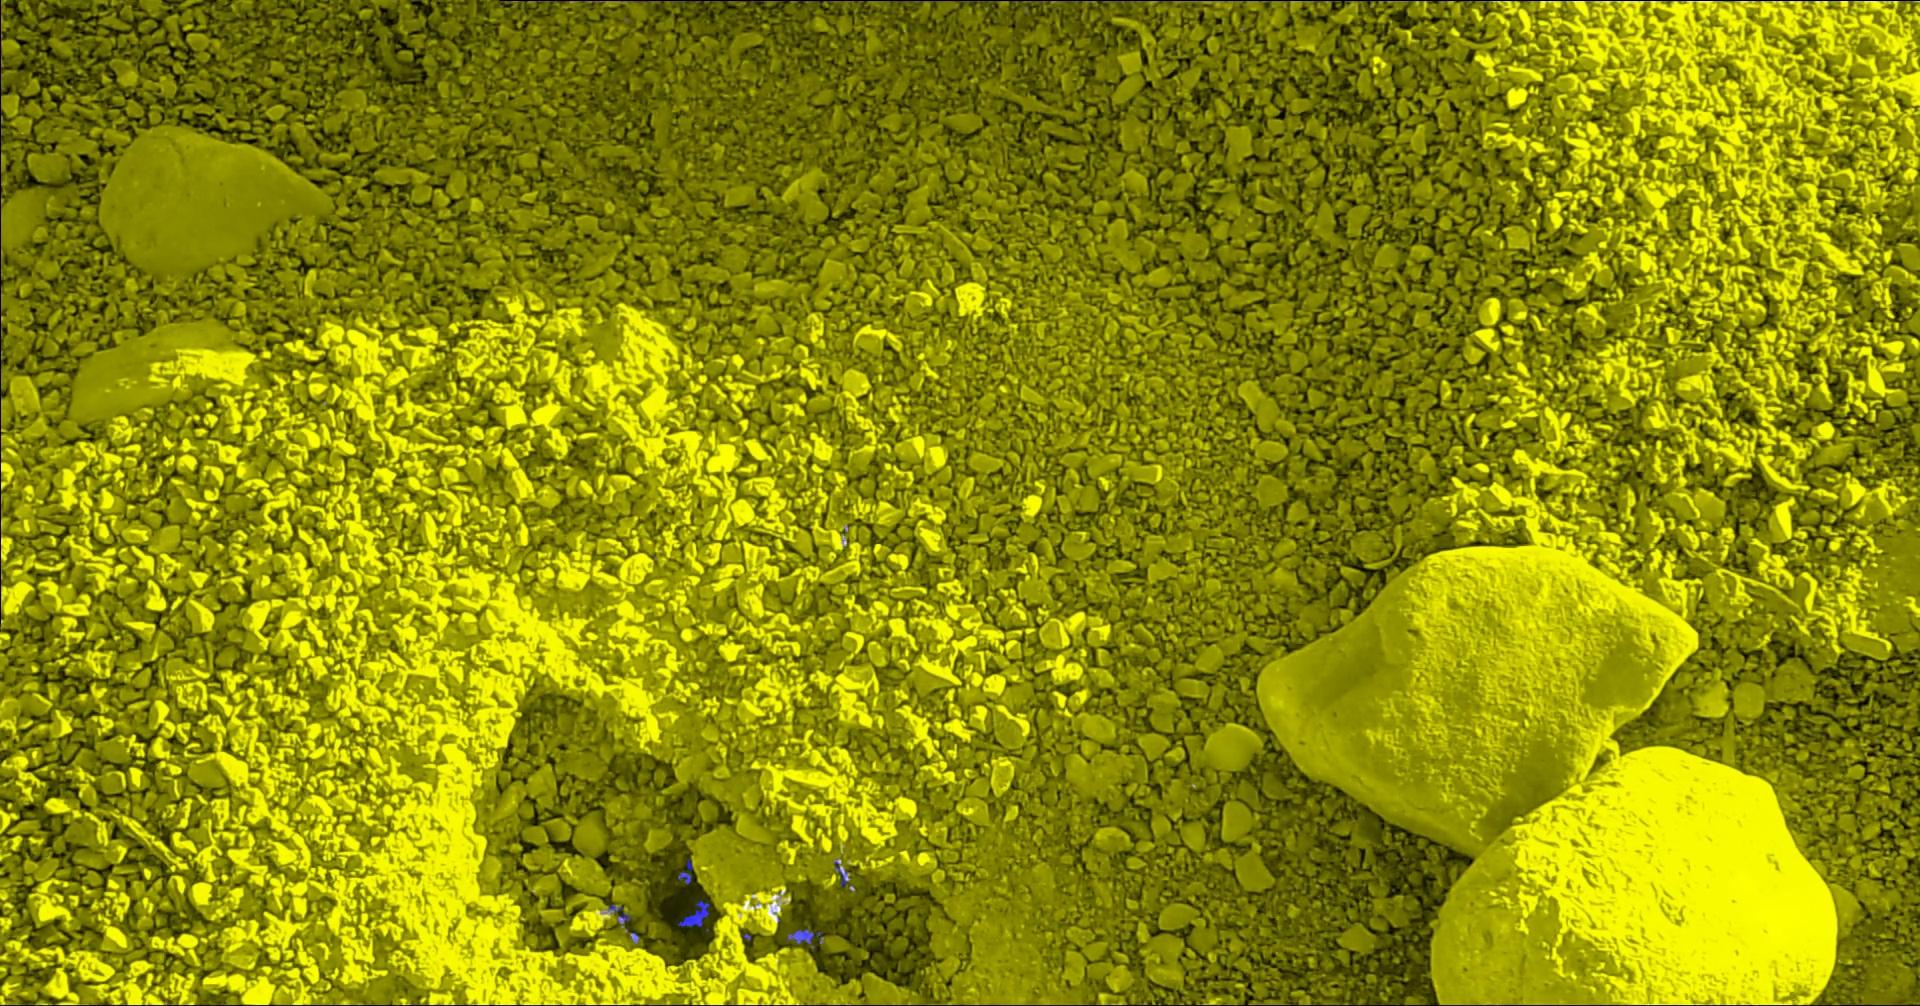ant: (678, 899, 711, 927), (789, 929, 823, 948), (610, 903, 632, 927), (836, 861, 855, 887), (679, 857, 695, 884), (622, 0, 745, 3)
